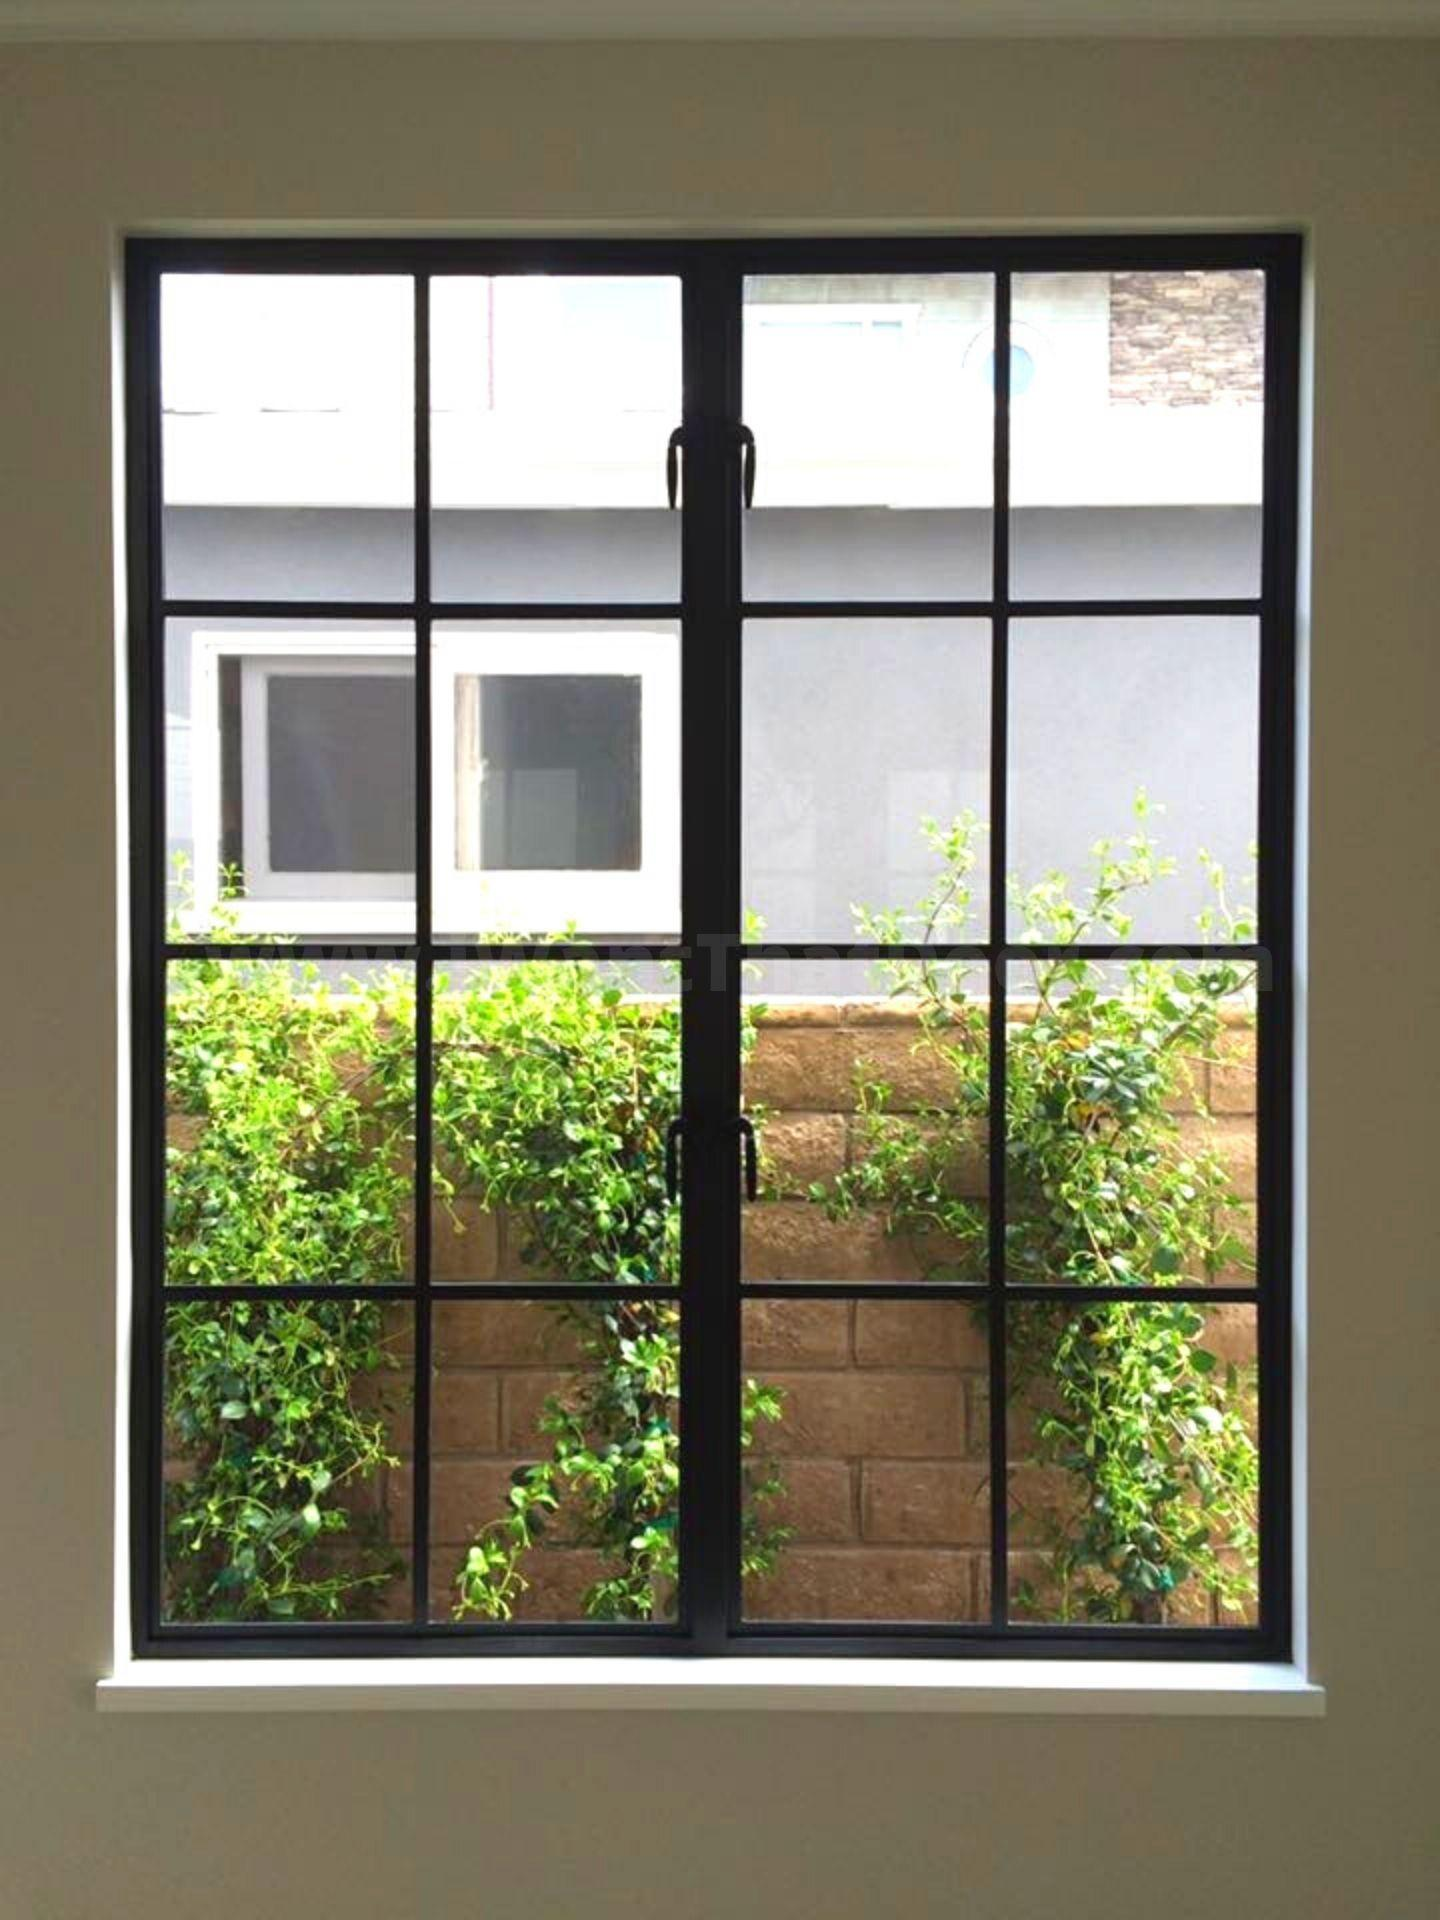Window: (115, 218, 1311, 1661), (192, 630, 675, 921)
